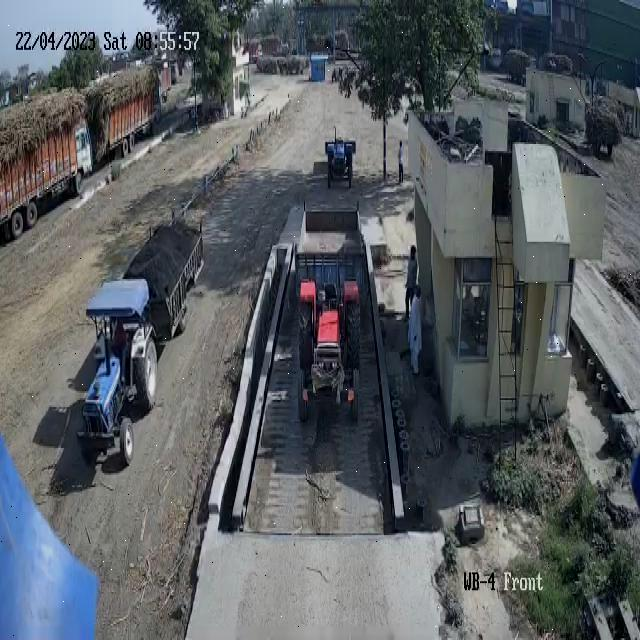Tratores - v5 YOLO V8L 2024-11-13: (74, 277, 158, 490), (296, 272, 366, 442), (322, 128, 356, 186)
